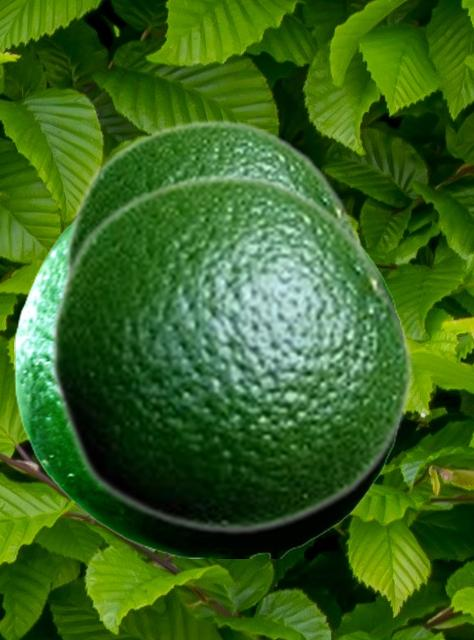calamansi: (47, 172, 414, 535), (14, 222, 405, 557), (62, 118, 371, 274)
